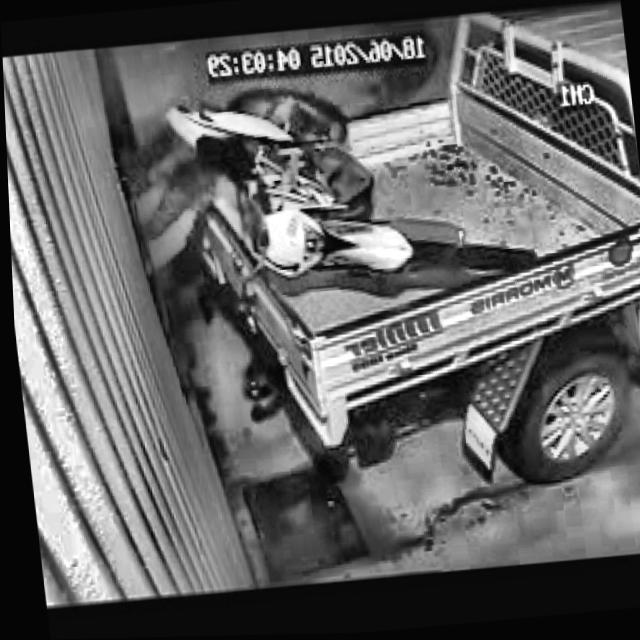burglary: (123, 60, 546, 335)
